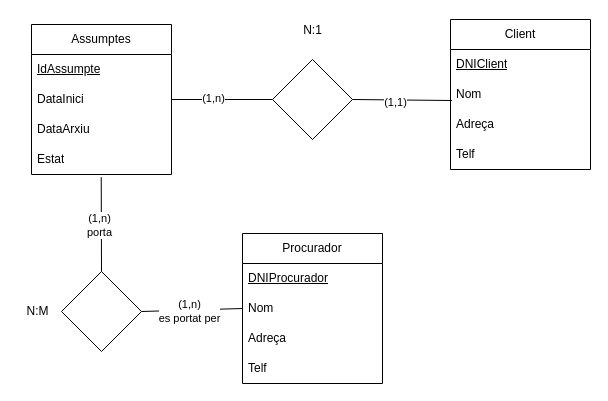
Image size: 608x401. Some labels were removed from this diagram. The centre of each missing label's shape, as x and y in pixels:
Assignat: the point at 312,99
AxP: the point at 101,311
